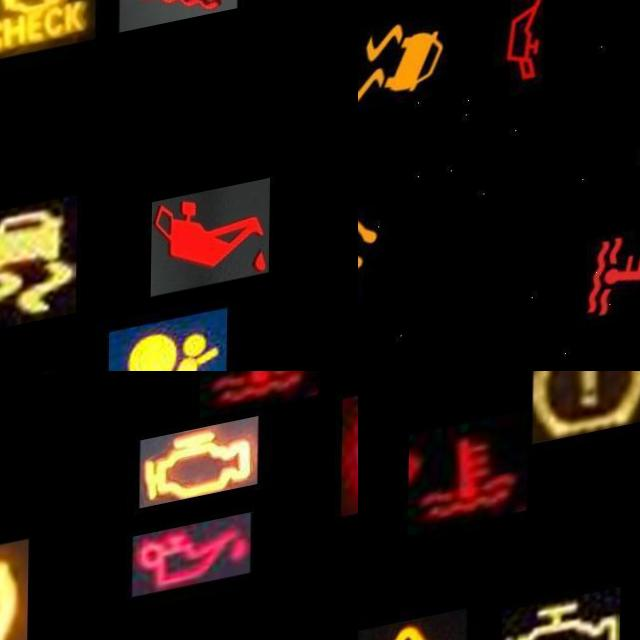Engine cooling system: (409, 421, 528, 541), (200, 371, 319, 435), (119, 0, 239, 49)
